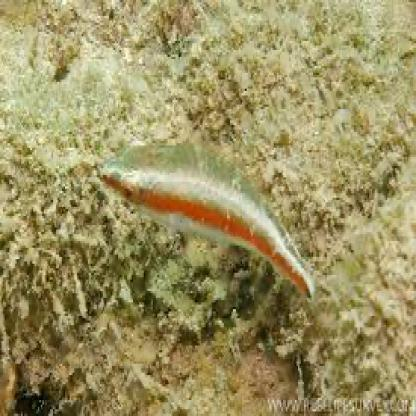Bio: (98, 107, 324, 325)
